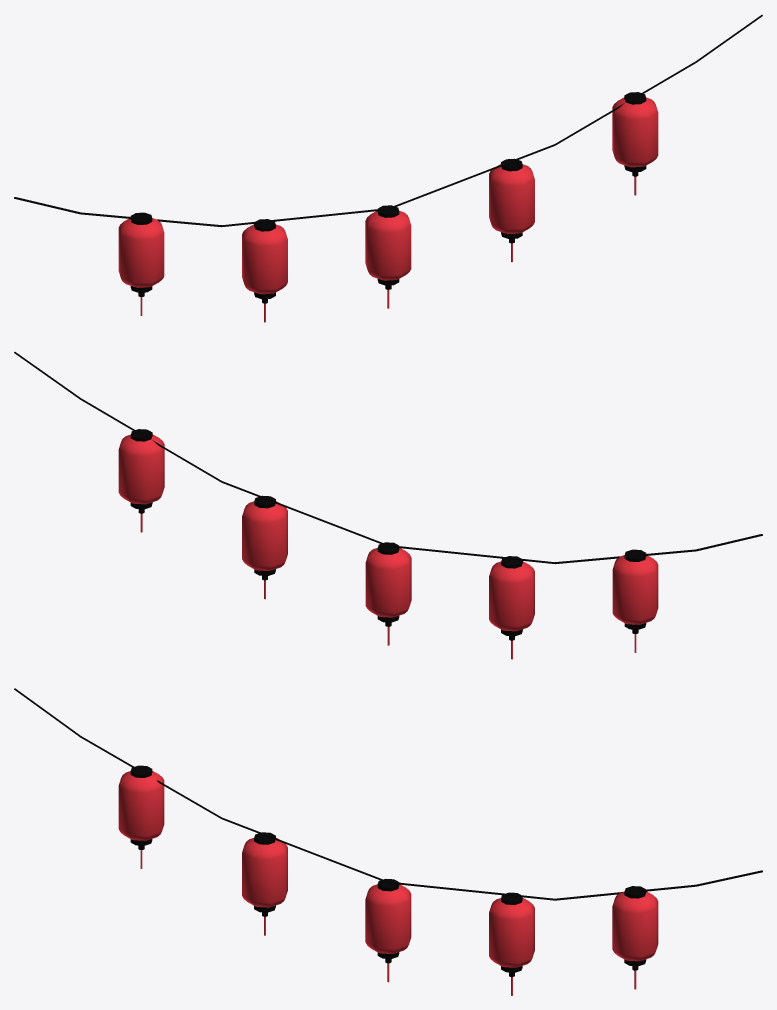
The model's file is Lanterns.fbx.
The picture shows the model from 3 angles, top to bottom: view 1: azimuth 30°, elevation 25°; view 2: azimuth 150°, elevation 25°; view 3: azimuth 330°, elevation 25°; orthographic projection.
Visible parts, largest first — view 1: Lanterns; view 2: Lanterns; view 3: Lanterns.
Boxes of the visible parts, box(x1,y1,x2,y2) form: Lanterns: box(14, 15, 762, 322); Lanterns: box(14, 352, 762, 659); Lanterns: box(14, 688, 762, 995).
Size of the model in its own units: 2327 by 602 by 128.
